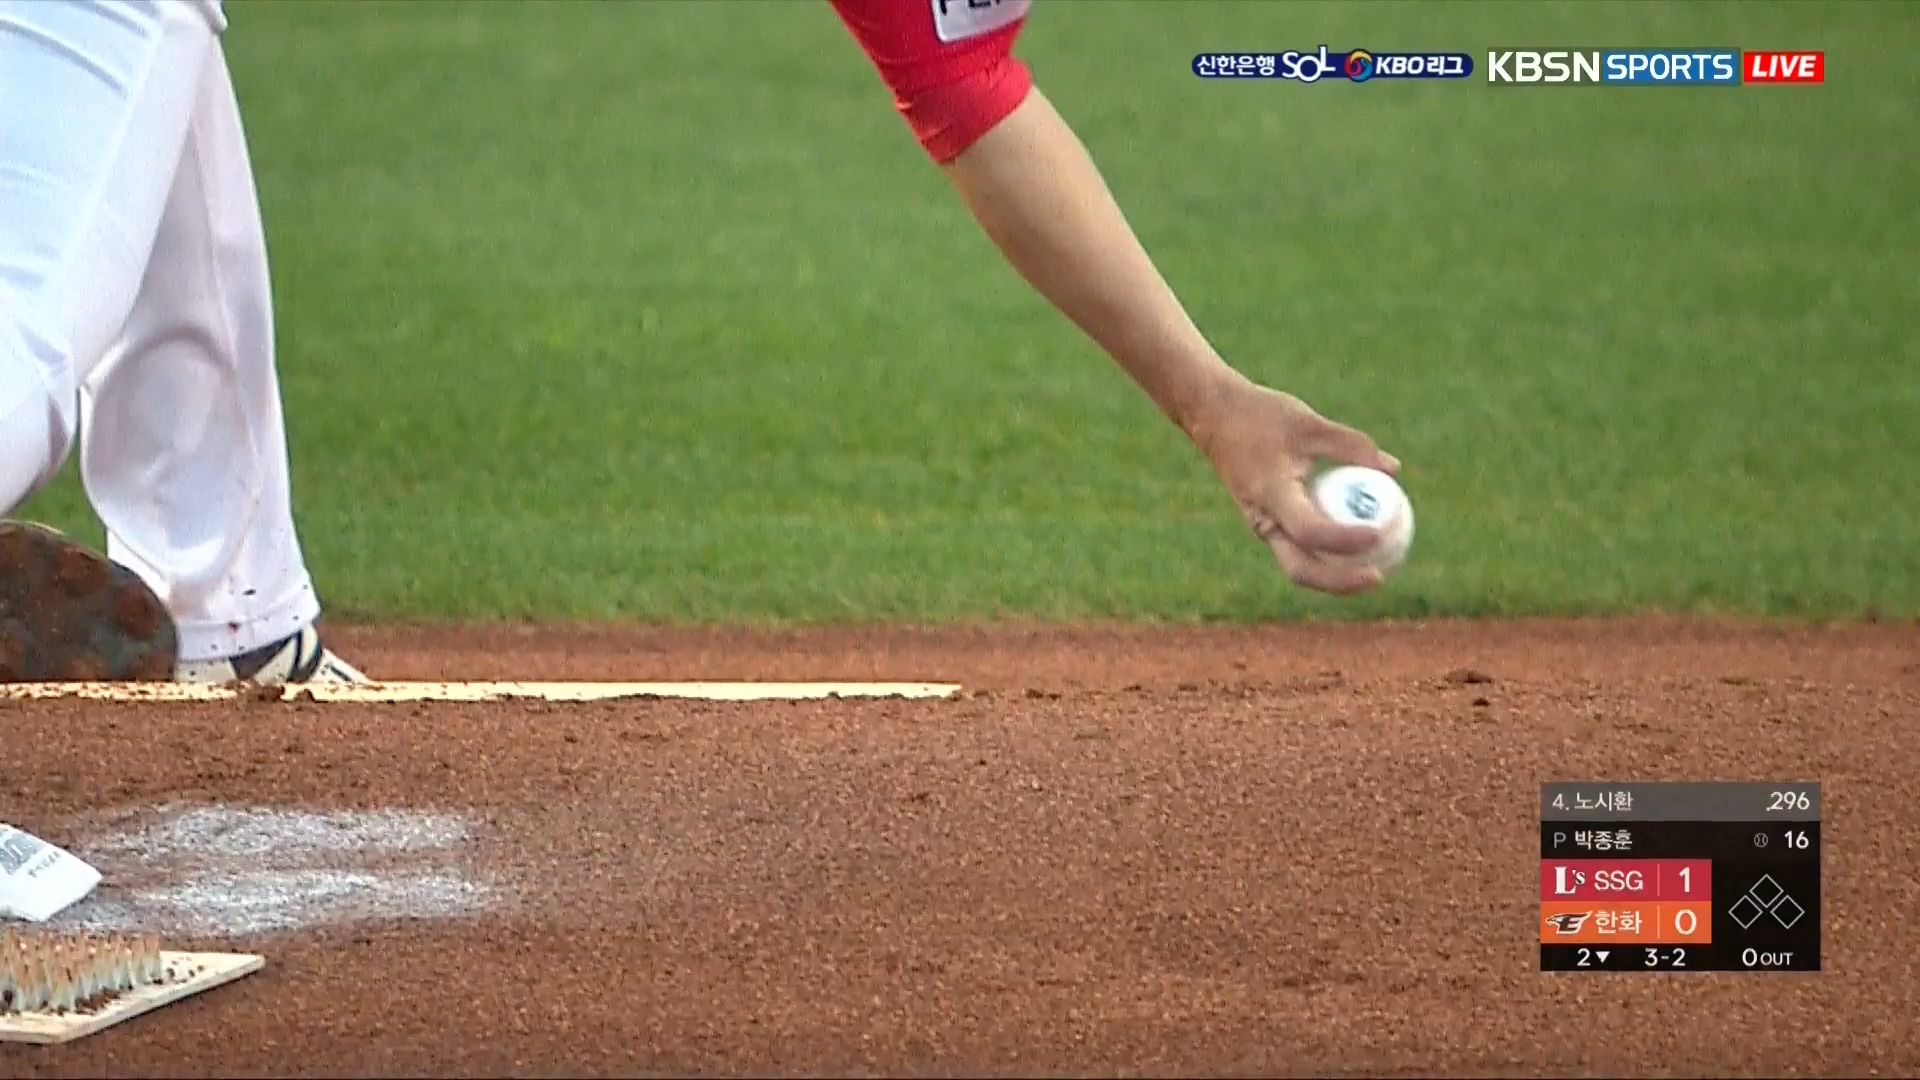zoomin_hand: (886, 51, 1416, 605)
